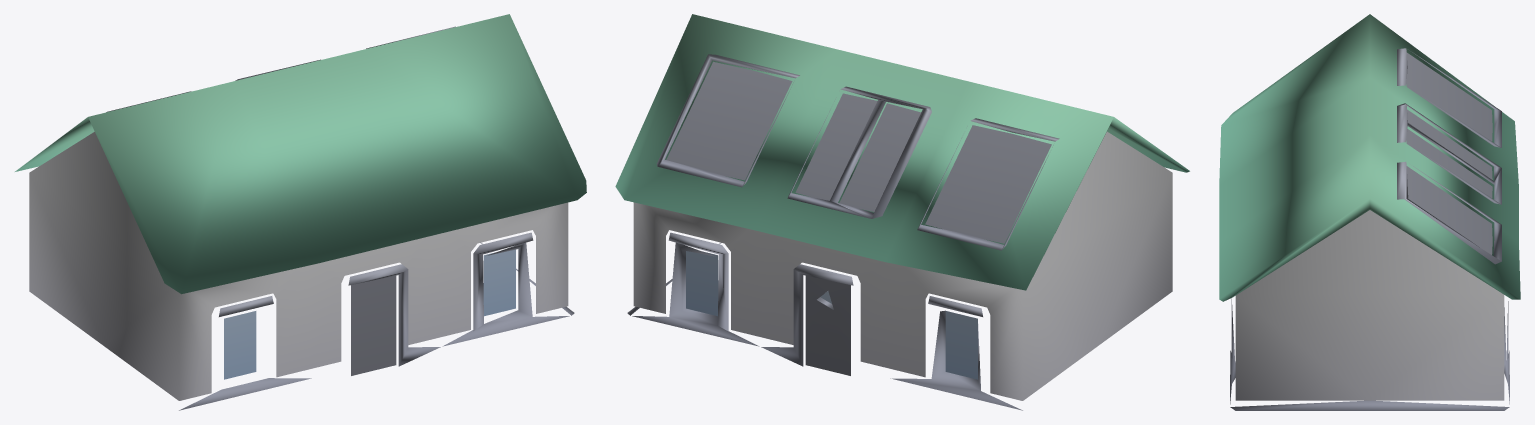
3 views of the same model, side by side, from view 1: azimuth 30°, elevation 25°; view 2: azimuth 150°, elevation 25°; view 3: azimuth 270°, elevation 25° (orthographic). The views are drawn at different scales.
Bounding box in the file's own units: 10.4 × 5.9 × 7.18.
